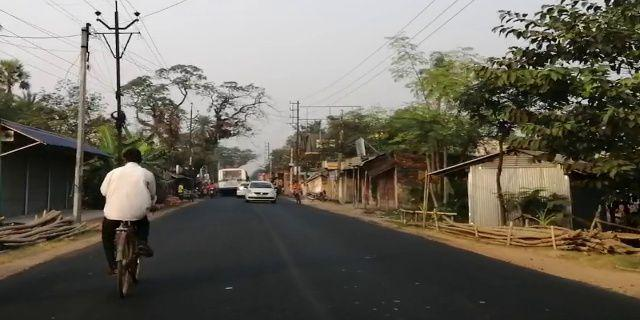Bus: (214, 166, 246, 195)
Car: (242, 177, 278, 204)
Cycle: (97, 149, 158, 298)
